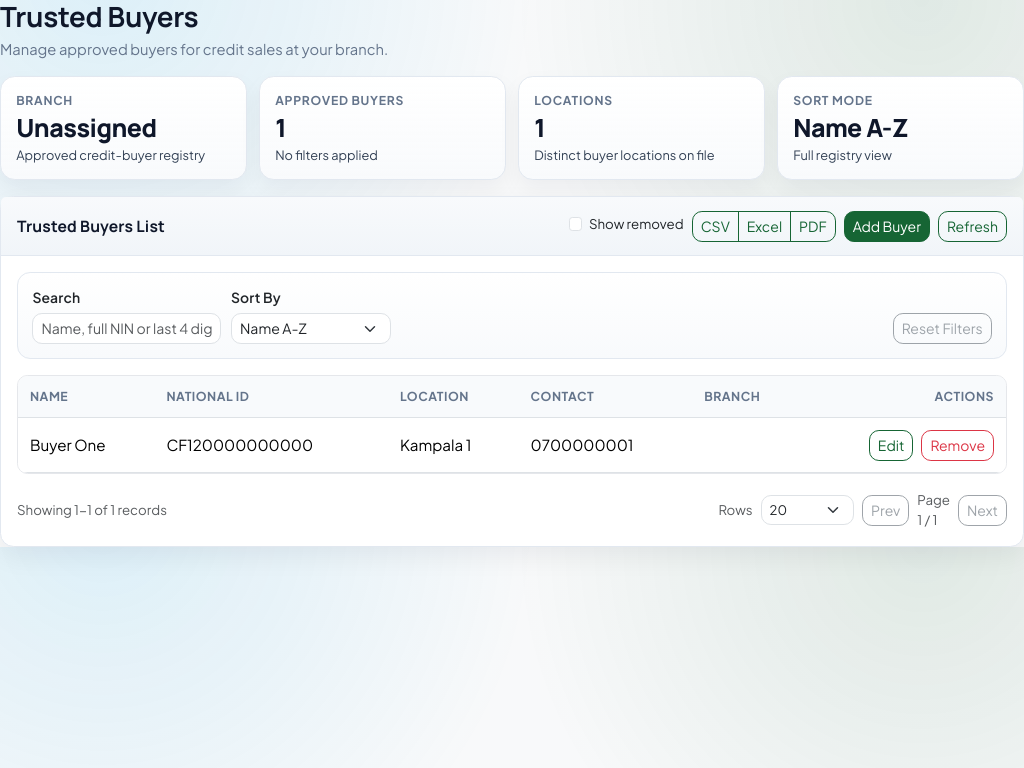
Test: Forms Validation E2E › blocks trusted-buyer submission when contact format is invalid
The width and height of the screenshot is (1024, 768).
Click the button "Add Buyer".
click(887, 226)  # box [844,210,930,242]
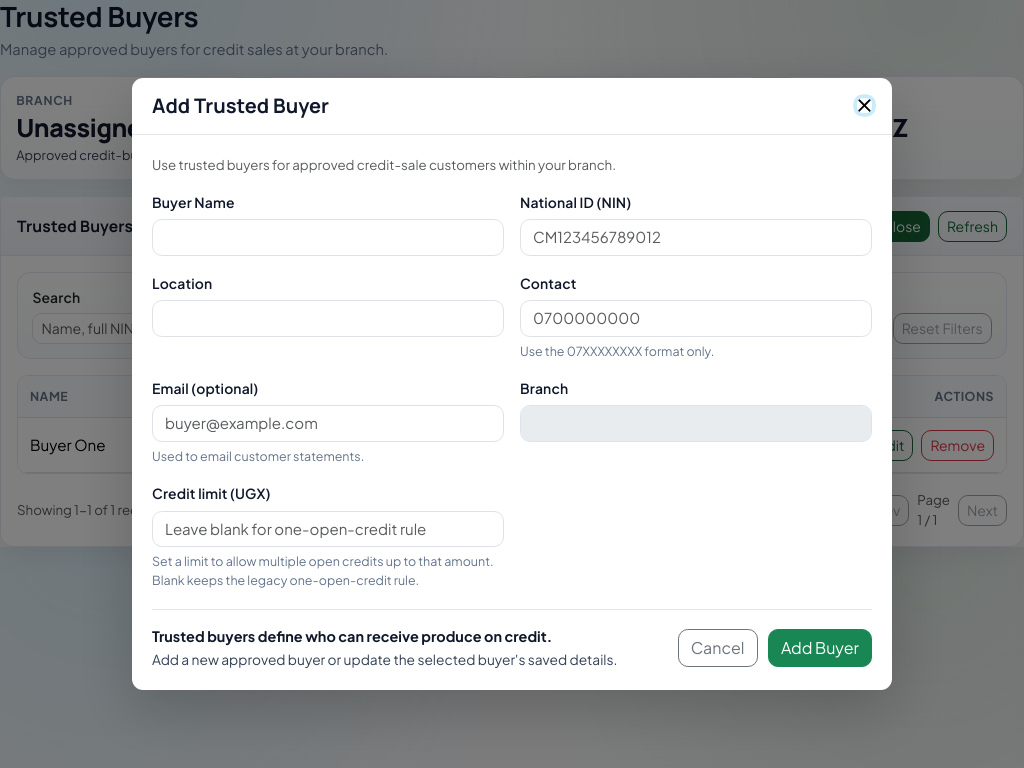
Type "Buyer 3" into the field with id "trusted-buyer-name".
click(328, 237); type("Buyer 3")  # box [152,219,504,256]
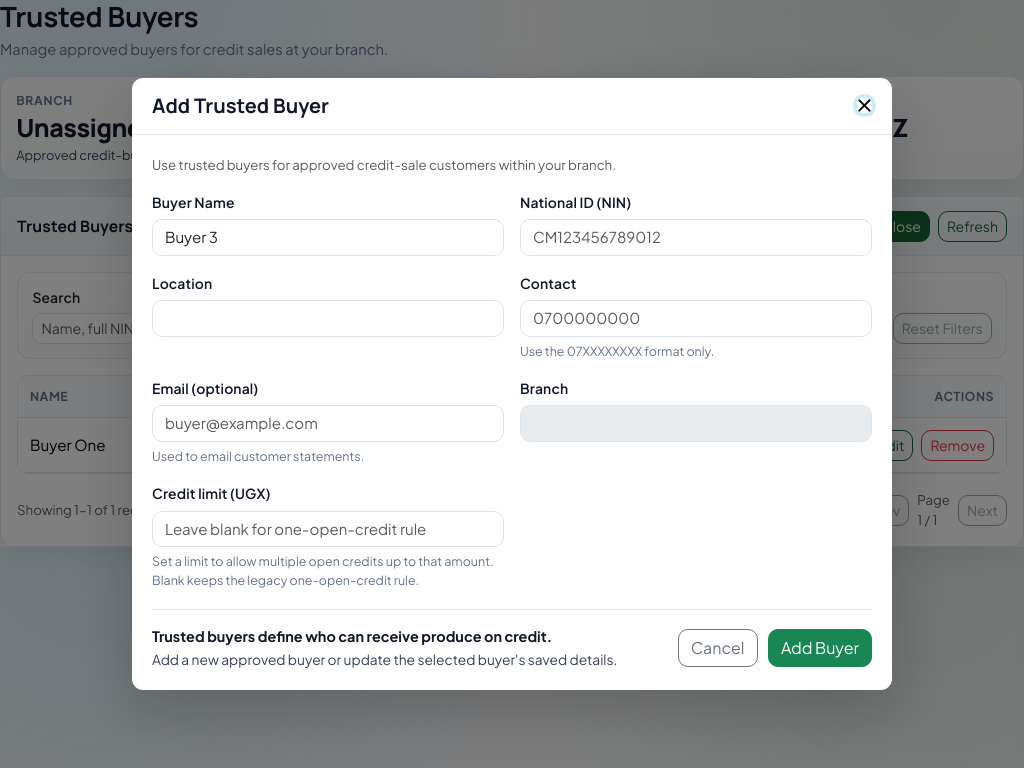
Type "CF120000000000" into the field with id "trusted-buyer-nin".
click(696, 237); type("CF120000000000")  # box [520,219,872,256]
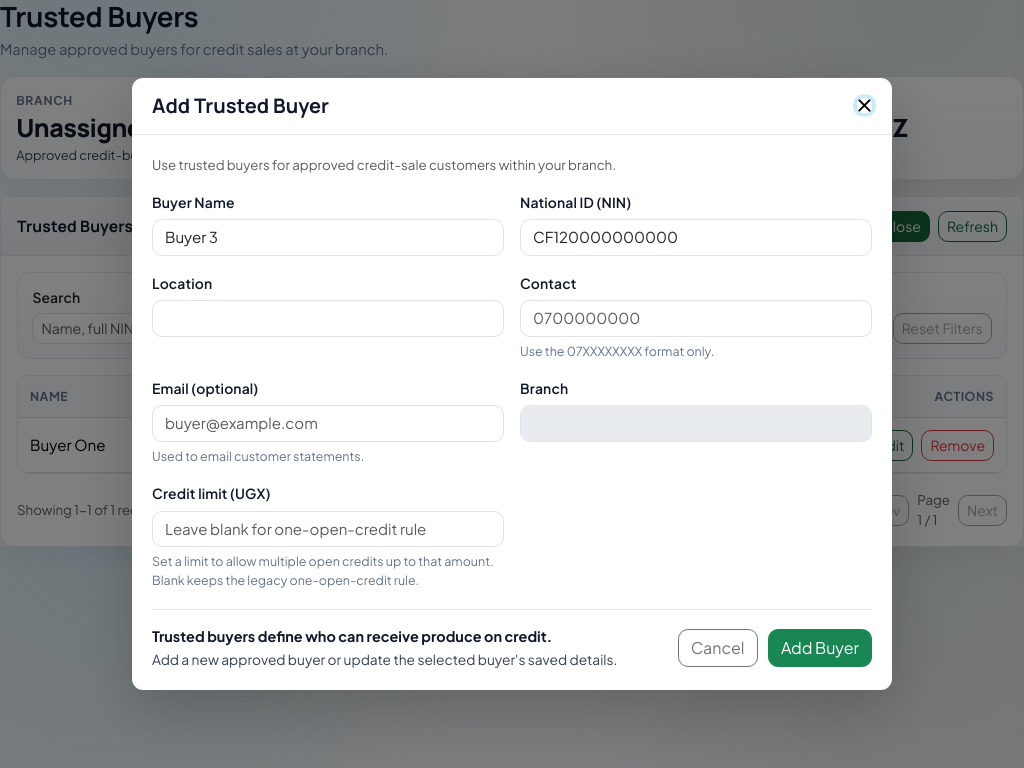
Type "Kampala 2" into the field with id "trusted-buyer-location".
click(328, 318); type("Kampala 2")  # box [152,300,504,337]
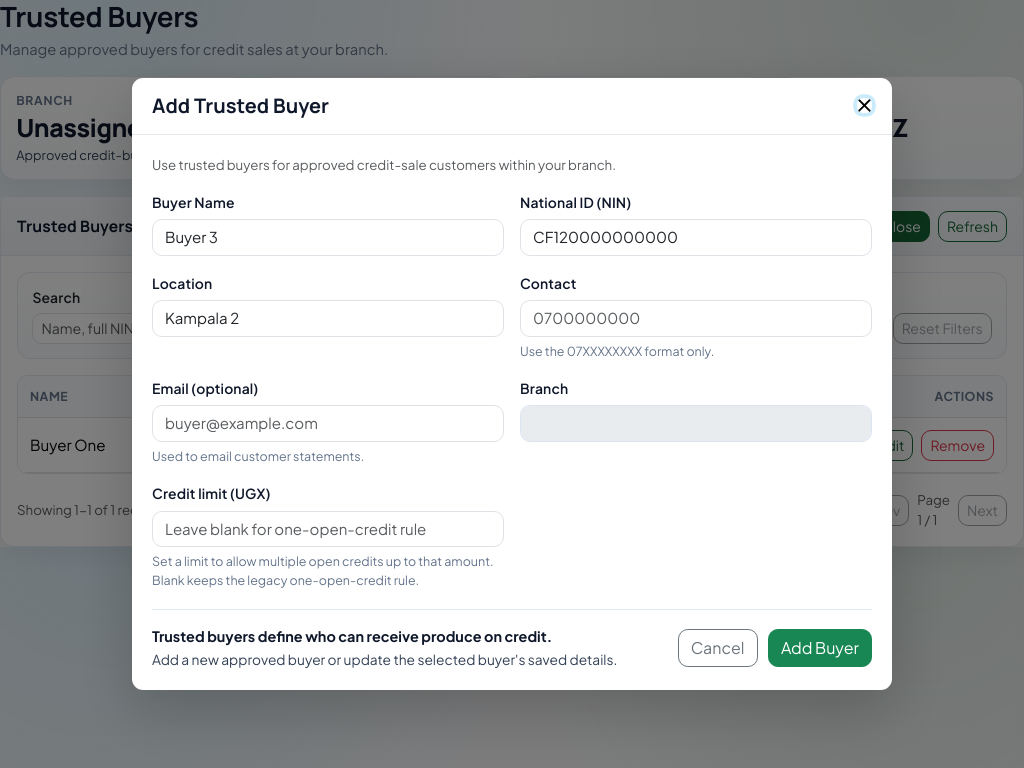
Type "12345" into the field with id "trusted-buyer-contact".
click(696, 318); type("12345")  # box [520,300,872,337]
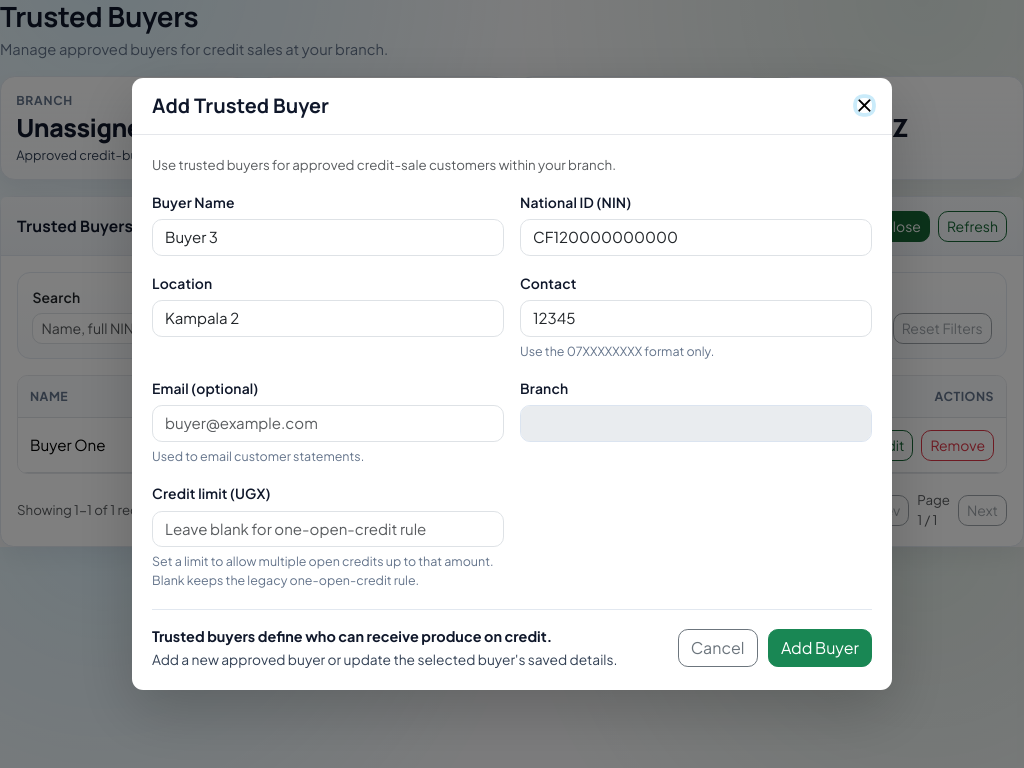
Submit the form, box [152,175,872,670]
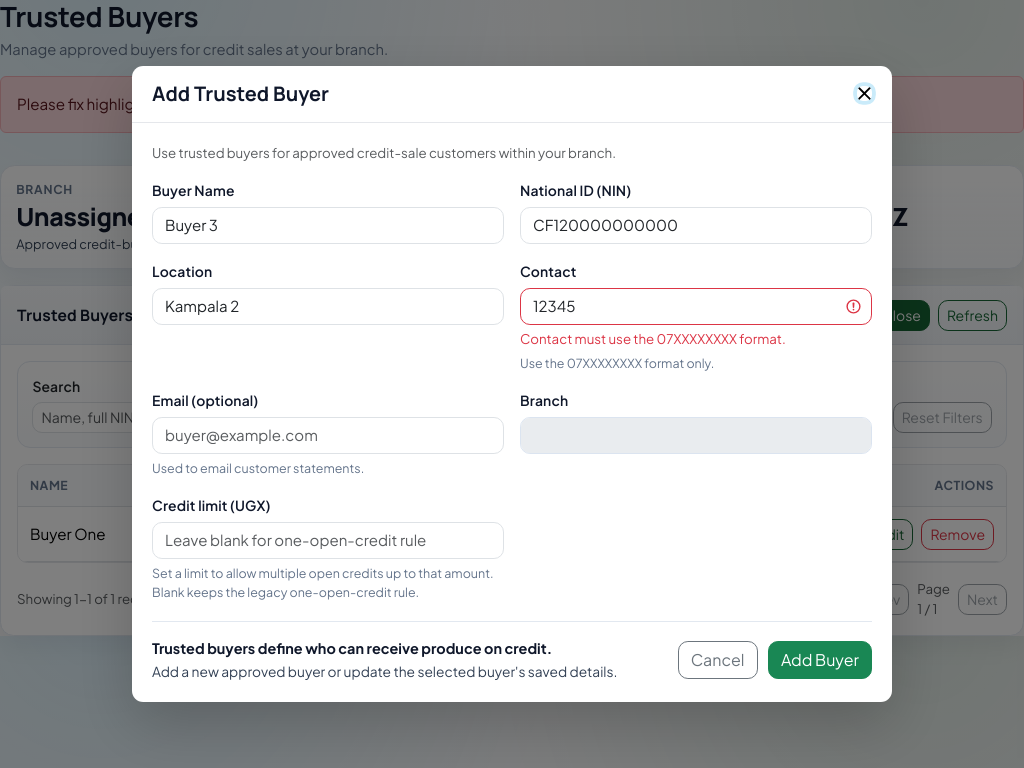
Expected: the text "Contact must use the 07XXXXXXXX format." is shown, [520,330,786,347]
